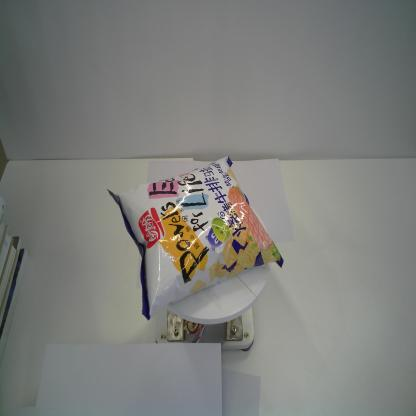Puffed Food: (107, 152, 284, 320)
